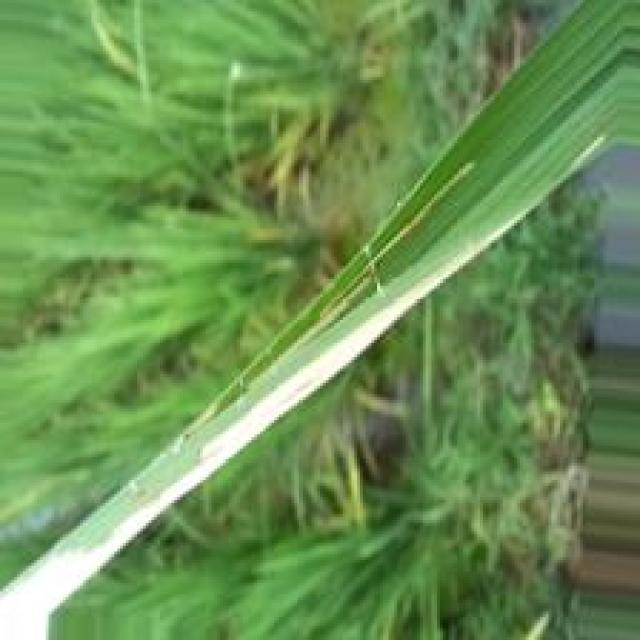Rice_Hispa: (0, 215, 520, 640)
